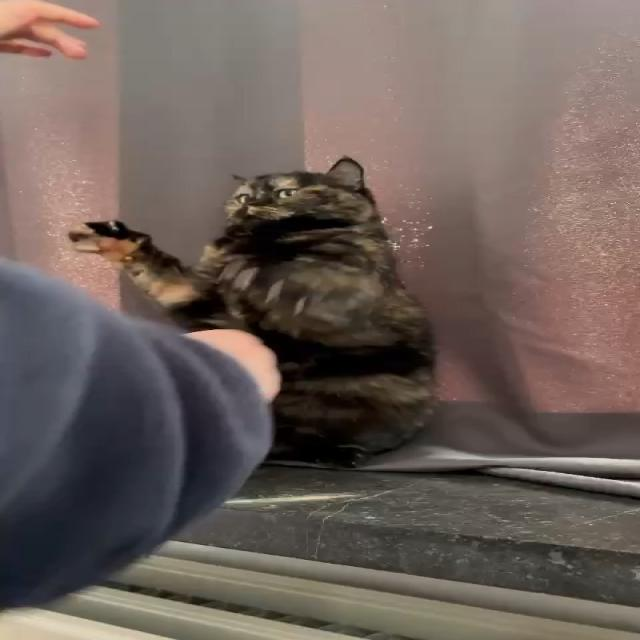authorized: (67, 154, 440, 468)
